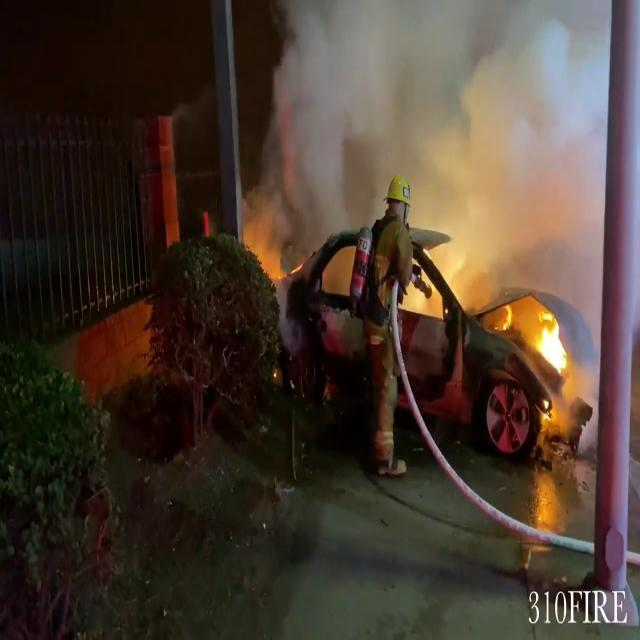Fire: (532, 302, 576, 384)
Smoke: (248, 6, 596, 296)
